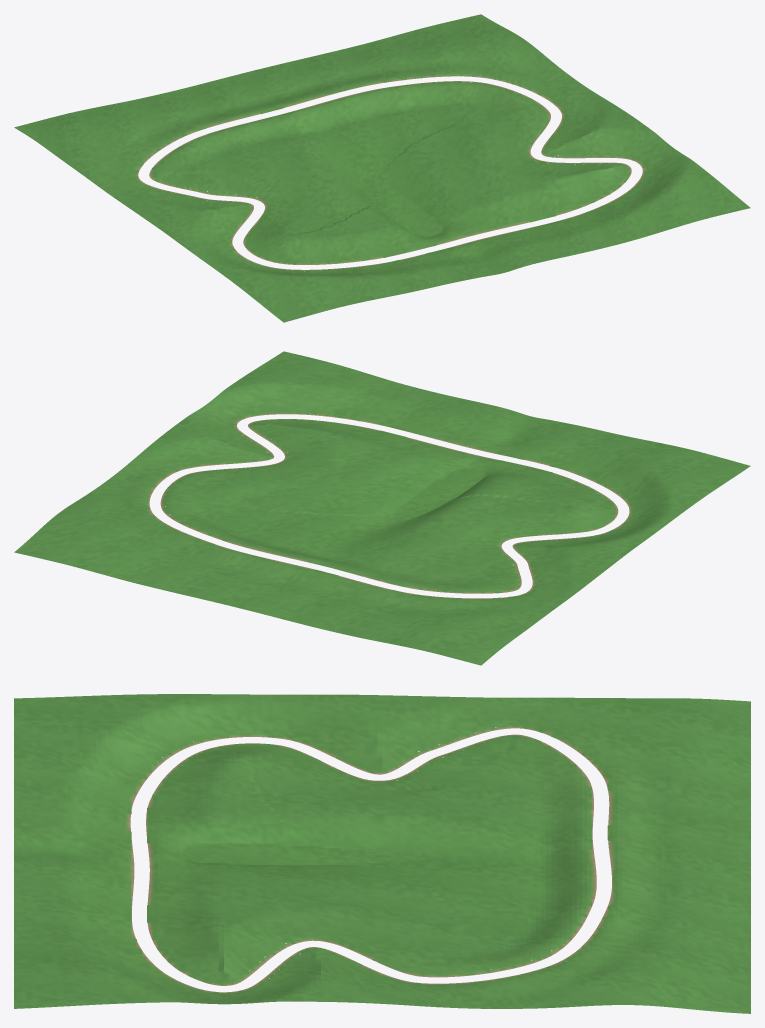
Rendered from lowpoly_terrain.glb.
3 renders of one model, top to bottom at view 1: azimuth 30°, elevation 25°; view 2: azimuth 150°, elevation 25°; view 3: azimuth 270°, elevation 25°, orthographic. The views are drawn at different scales.
Parts seen in each view (by area): view 1: primitive_lowpoly_terrain; view 2: primitive_lowpoly_terrain; view 3: primitive_lowpoly_terrain.
Boxes of the visible parts, <box> form: primitive_lowpoly_terrain: <box>14,14,750,322</box>; primitive_lowpoly_terrain: <box>14,351,750,665</box>; primitive_lowpoly_terrain: <box>14,694,750,1013</box>.
Bounding box in the file's own units: 1127 × 37.18 × 1127.
